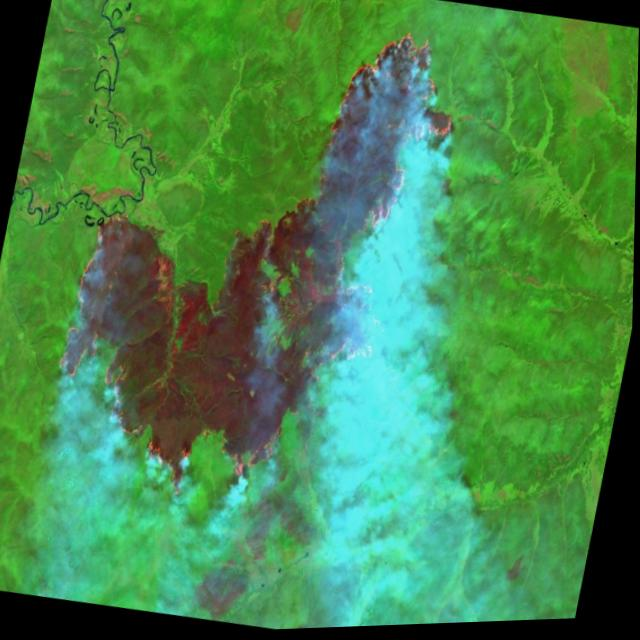fire: (34, 0, 475, 539)
